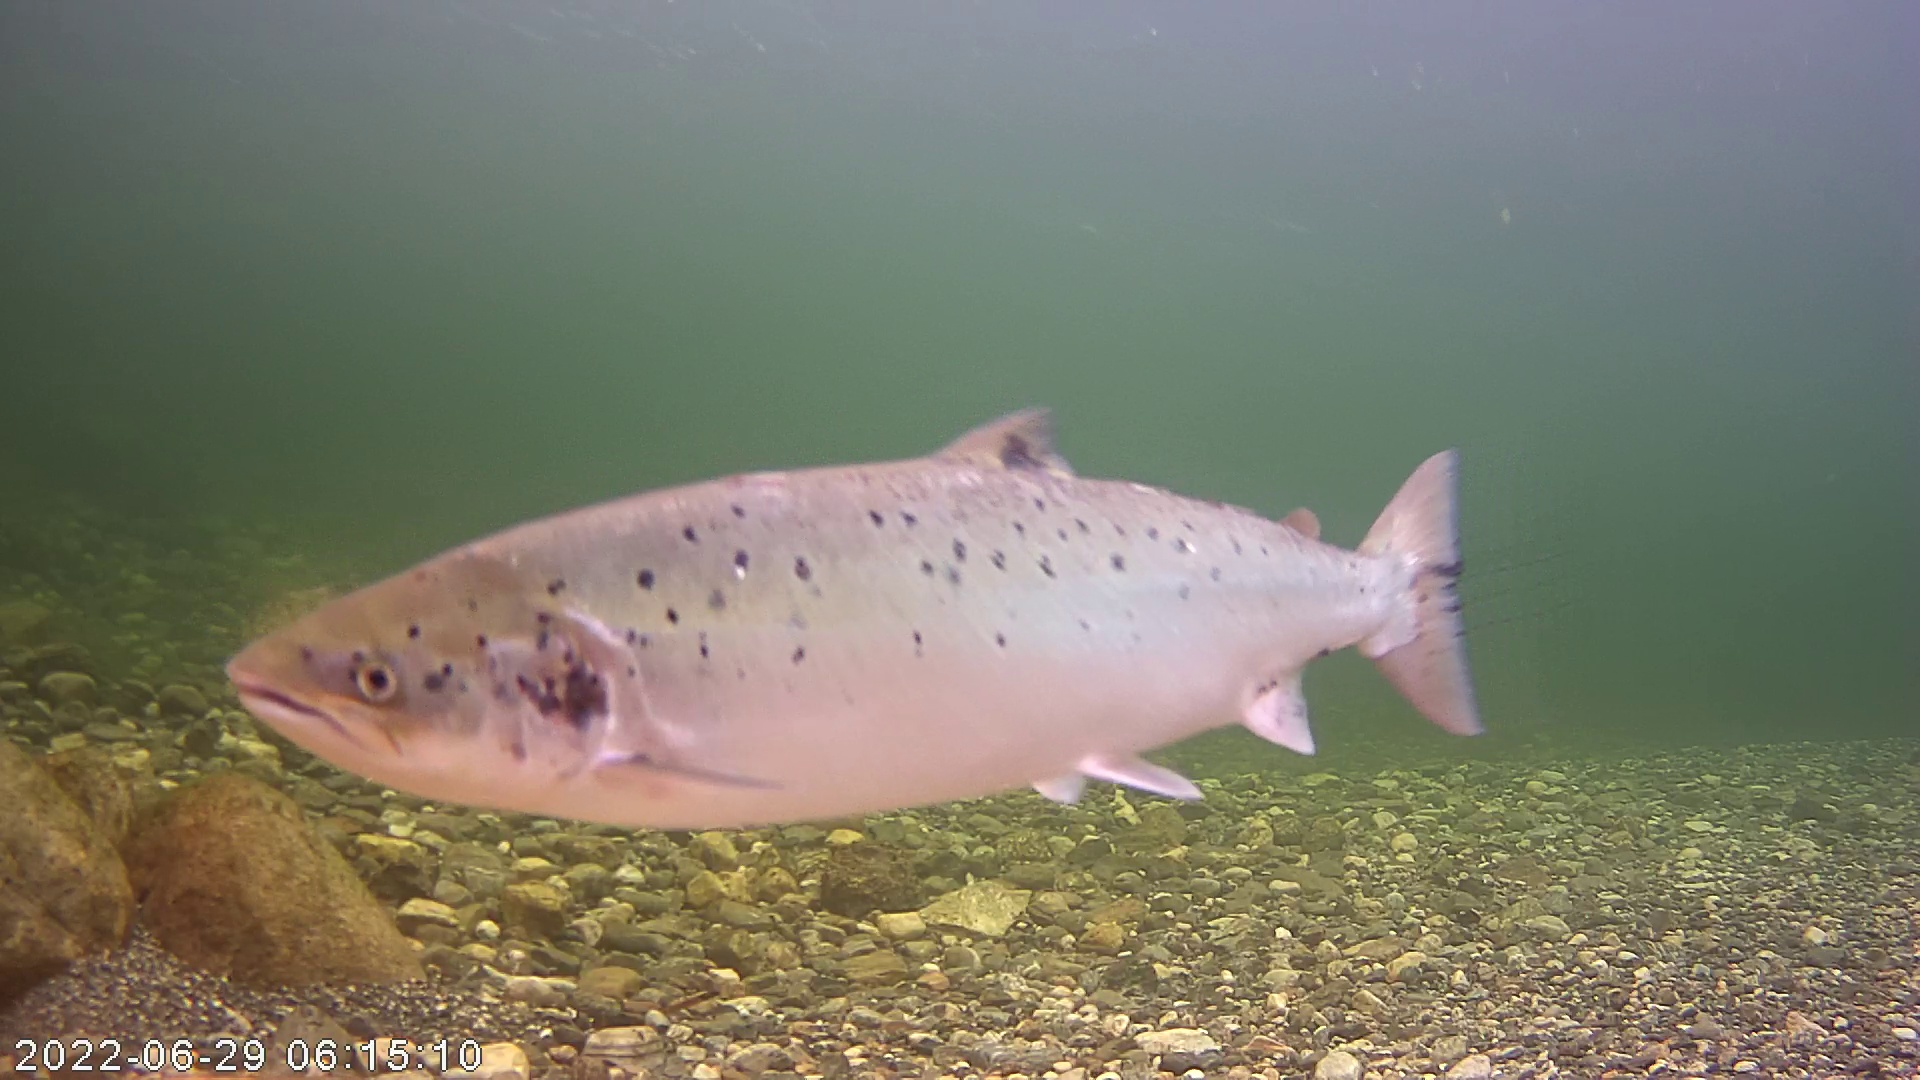salmon: (219, 311, 1495, 889)
